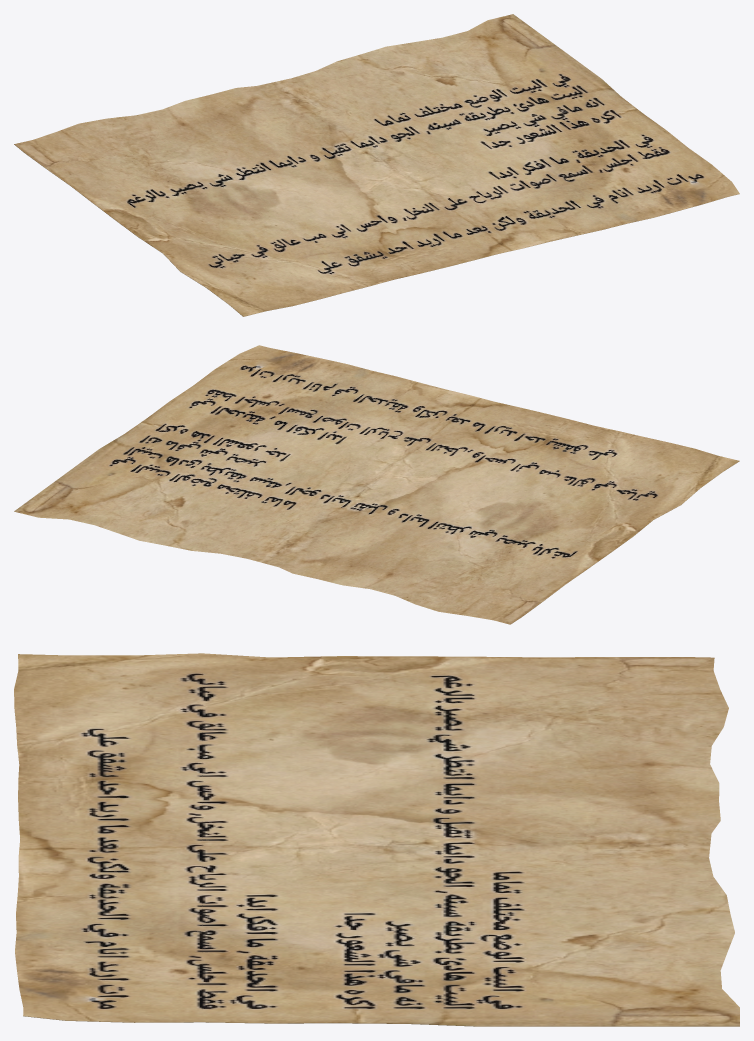
Rendered from Adel's Message 2nd half.fbx.
3 renders of one model, top to bottom at view 1: azimuth 30°, elevation 25°; view 2: azimuth 150°, elevation 25°; view 3: azimuth 270°, elevation 25°, orthographic. The views are drawn at different scales.
Parts seen in each view (by area): view 1: pCube1; view 2: pCube1; view 3: pCube1.
Boxes of the visible parts, x1,y1,x2,y2 form: pCube1: (14,14,739,316); pCube1: (14,345,739,624); pCube1: (14,653,739,1026).
Size of the model in its own units: 0.6442 by 0.000315 by 0.5301.
1 material, 1 textured.
